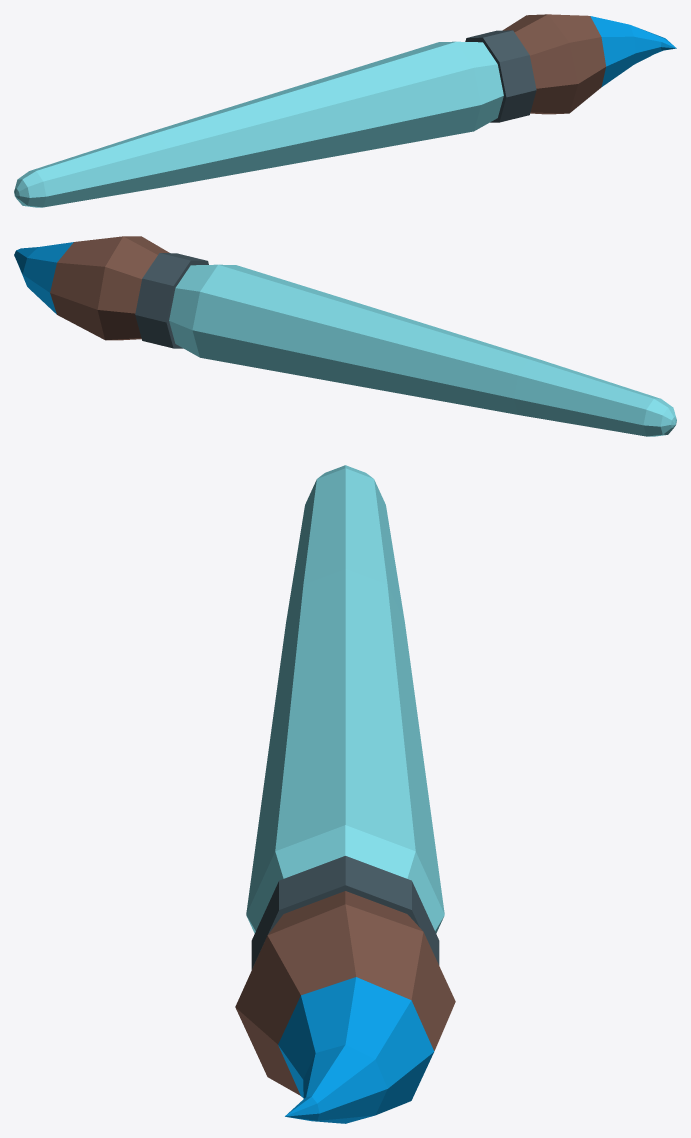
Rendered from Paintbrush_01.obj.
3 views of the same model, one above another, from view 1: azimuth 30°, elevation 25°; view 2: azimuth 150°, elevation 25°; view 3: azimuth 270°, elevation 25° (orthographic). The views are drawn at different scales.
Parts seen in each view (by area): view 1: Circle.005; view 2: Circle.005; view 3: Circle.005.
Part boxes in pixels (x1,y1,x2,y2): Circle.005: (14,14,676,207); Circle.005: (14,236,676,436); Circle.005: (235,465,455,1123).
Size of the model in its own units: 10.06 by 1.49 by 1.49.
